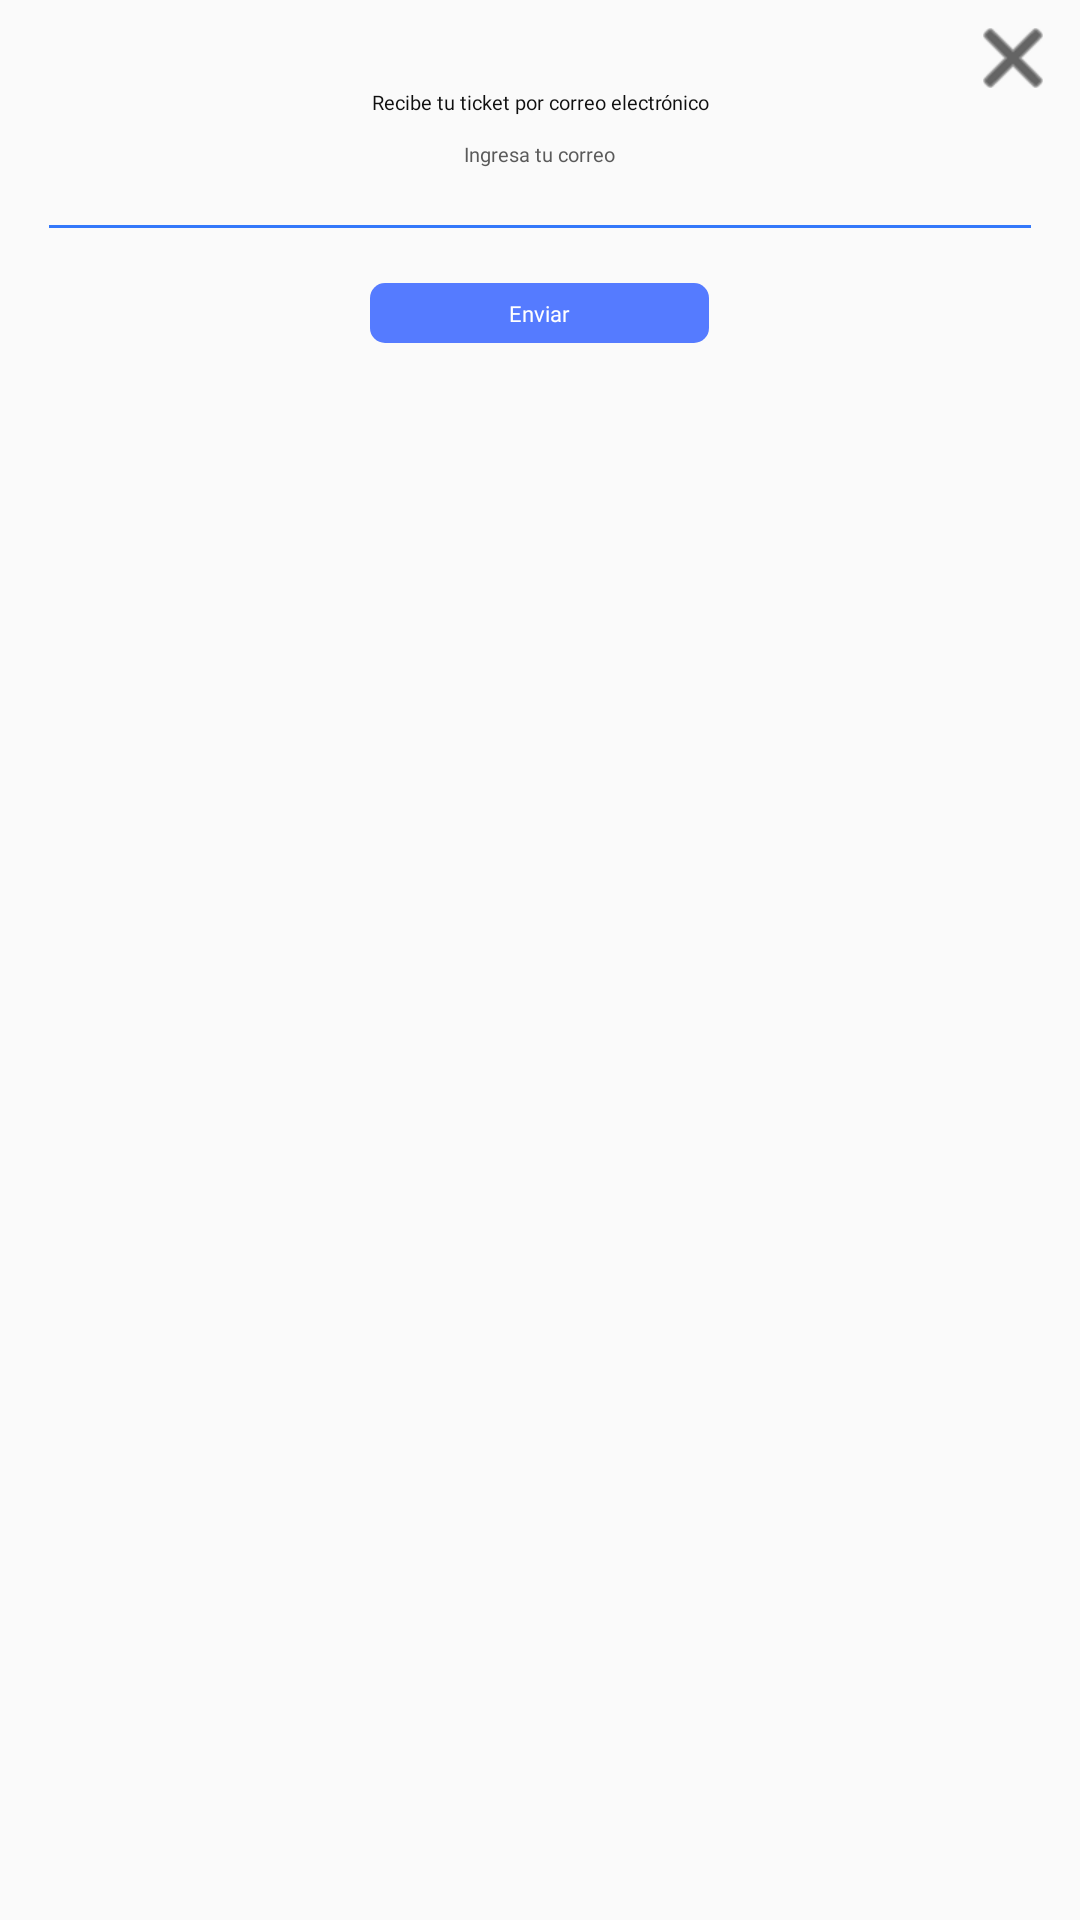

Locate icon controls on the screen. Image size 1080*1920, boxes as (x1, y1, x2, y2).
close clear cancel: (983, 28, 1043, 88)
